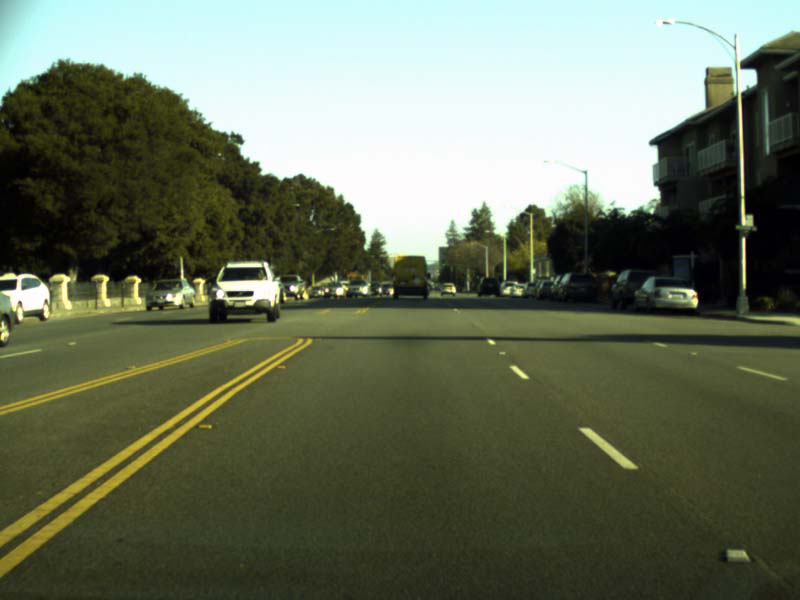Green: (440, 259, 445, 268)
